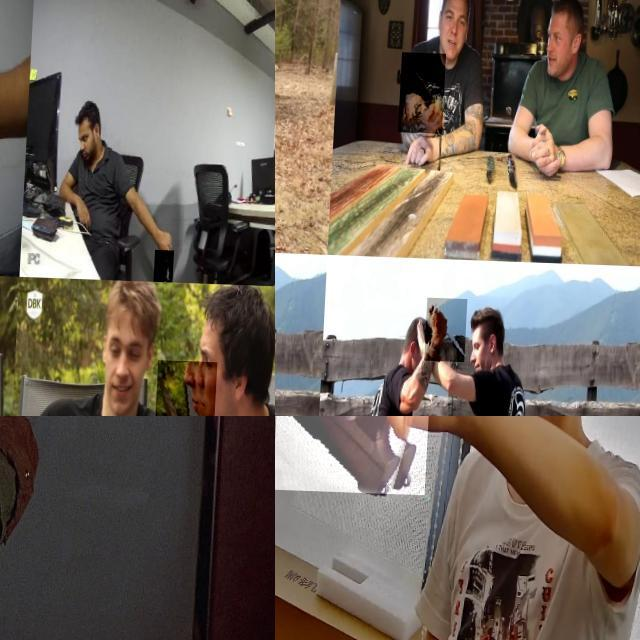-: (0, 0, 57, 143), (155, 356, 221, 416), (400, 49, 447, 131), (428, 294, 472, 358), (0, 328, 28, 416), (275, 145, 310, 200), (275, 282, 297, 345), (157, 246, 177, 278)
gun-knife-thesis - v11 Yolov5 augmented: (276, 416, 437, 525), (0, 416, 41, 503)
